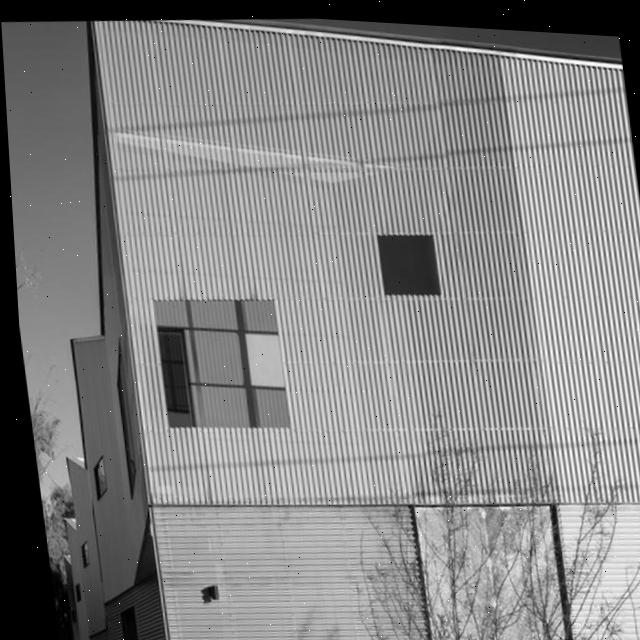building: (3, 0, 640, 640)
